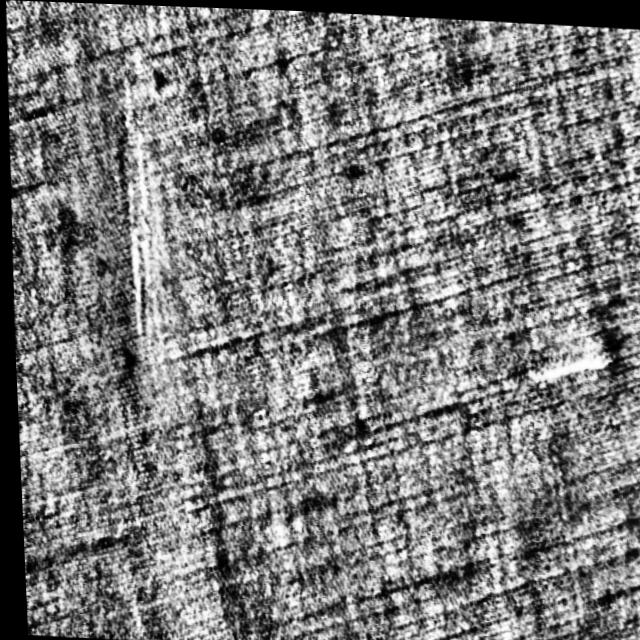Stitch: (112, 63, 165, 339), (518, 332, 623, 393)
